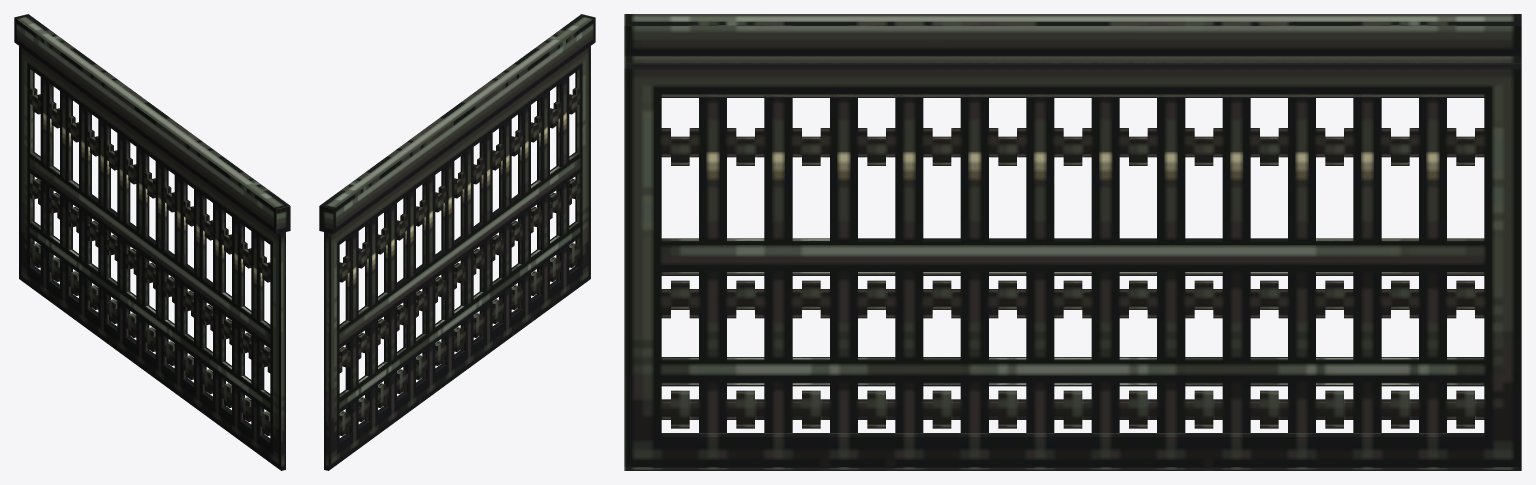
The model's file is ObjMD_Daiseido_Room_Gate.FBX.
3 views of the same model, side by side, from view 1: azimuth 30°, elevation 25°; view 2: azimuth 150°, elevation 25°; view 3: azimuth 270°, elevation 25° (orthographic). The views are drawn at different scales.
Visible parts, largest first — view 1: ObjMD_Daiseido_Room_Gate; view 2: ObjMD_Daiseido_Room_Gate; view 3: ObjMD_Daiseido_Room_Gate.
Boxes of the visible parts, <box> form: ObjMD_Daiseido_Room_Gate: <box>14,14,290,470</box>; ObjMD_Daiseido_Room_Gate: <box>319,14,595,470</box>; ObjMD_Daiseido_Room_Gate: <box>624,14,1521,470</box>.
Size of the model in its own units: 18.75 by 331 by 600.
